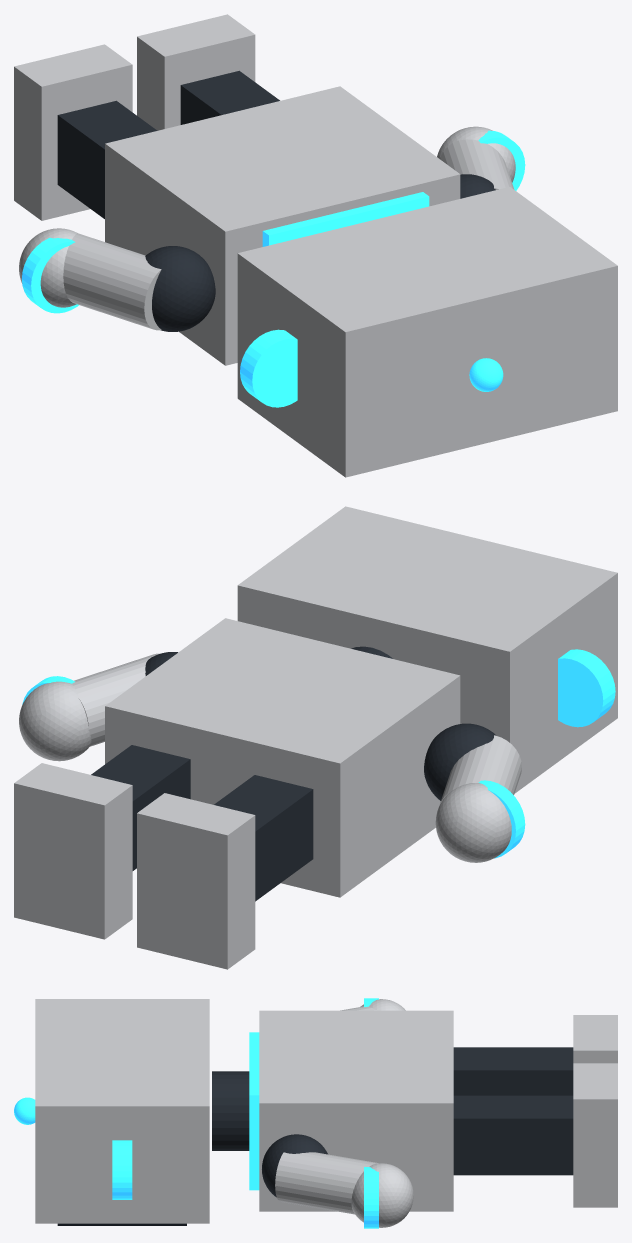
File: waka_robot_3d.glb
3 views of the same model, one above another, from view 1: azimuth 30°, elevation 25°; view 2: azimuth 150°, elevation 25°; view 3: azimuth 270°, elevation 25° (orthographic). The views are drawn at different scales.
Parts seen in each view (by area): view 1: head, torso, left_foot, right_foot, left_upper_arm, left_leg, left_shoulder, left_ear, right_leg, waist_blue, right_upper_arm, left_hand (+5 smaller); view 2: torso, head, left_foot, right_foot, left_leg, left_hand, right_hand, right_leg, left_ear, left_upper_arm, right_upper_arm, left_shoulder (+1 smaller); view 3: head, torso, right_leg, right_foot, left_leg, right_upper_arm, neck, right_hand, left_foot, waist_blue, right_shoulder, right_ear (+4 smaller).
Boxes of the visible parts, x1=… form: head: x1=237, y1=187, x2=617, y2=477; torso: x1=105, y1=86, x2=460, y2=365; left_foot: x1=14, y1=44, x2=132, y2=220; right_foot: x1=137, y1=14, x2=255, y2=130; left_upper_arm: x1=63, y1=233, x2=161, y2=330; left_leg: x1=57, y1=100, x2=157, y2=218; left_shoulder: x1=145, y1=246, x2=215, y2=331; left_ear: x1=240, y1=329, x2=297, y2=407; right_leg: x1=180, y1=70, x2=279, y2=124; waist_blue: x1=262, y1=192, x2=429, y2=246; right_upper_arm: x1=440, y1=139, x2=514, y2=189; left_hand: x1=19, y1=228, x2=78, y2=307; torso: x1=105, y1=618, x2=460, y2=897; head: x1=237, y1=506, x2=617, y2=793; left_foot: x1=137, y1=793, x2=255, y2=969; right_foot: x1=14, y1=763, x2=132, y2=939; left_leg: x1=214, y1=775, x2=313, y2=901; left_hand: x1=435, y1=783, x2=511, y2=862; right_hand: x1=19, y1=681, x2=91, y2=761; right_leg: x1=91, y1=745, x2=190, y2=870; left_ear: x1=558, y1=649, x2=615, y2=727; left_upper_arm: x1=439, y1=735, x2=521, y2=805; right_upper_arm: x1=72, y1=653, x2=159, y2=746; left_shoulder: x1=424, y1=723, x2=496, y2=800; head: x1=35, y1=999, x2=209, y2=1223; torso: x1=259, y1=1010, x2=453, y2=1211; right_leg: x1=453, y1=1095, x2=573, y2=1175; right_foot: x1=573, y1=1063, x2=617, y2=1207; left_leg: x1=453, y1=1047, x2=573, y2=1095; right_upper_arm: x1=275, y1=1152, x2=378, y2=1214; neck: x1=212, y1=1071, x2=249, y2=1150; right_hand: x1=351, y1=1163, x2=413, y2=1227; left_foot: x1=573, y1=1015, x2=617, y2=1063; waist_blue: x1=249, y1=1032, x2=259, y2=1190; right_shoulder: x1=262, y1=1134, x2=327, y2=1197; right_ear: x1=112, y1=1140, x2=132, y2=1199.
Bounding box in the file's own units: 1.85 × 0.6062 × 2.43.
